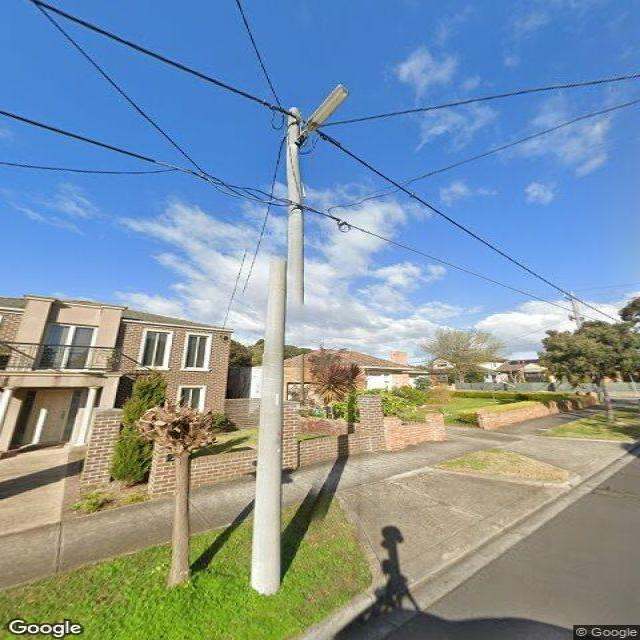concrete-pole: (249, 109, 301, 595)
streetlight: (289, 83, 349, 139)
